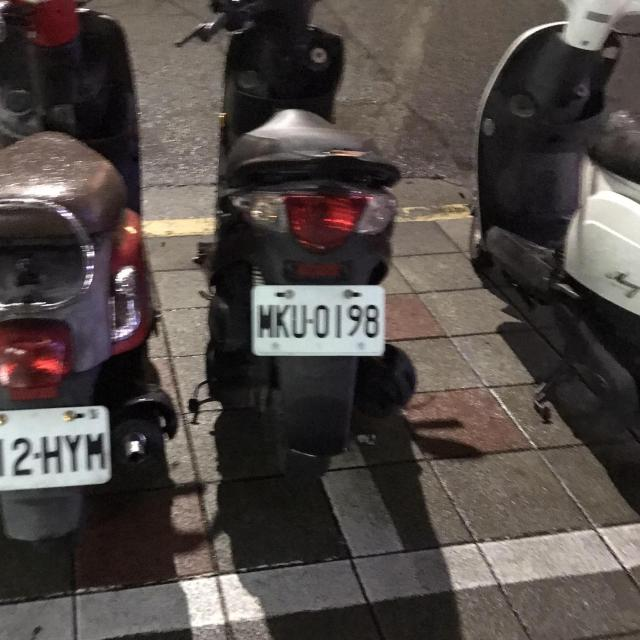W: (0, 397, 117, 501), (247, 280, 389, 359)
